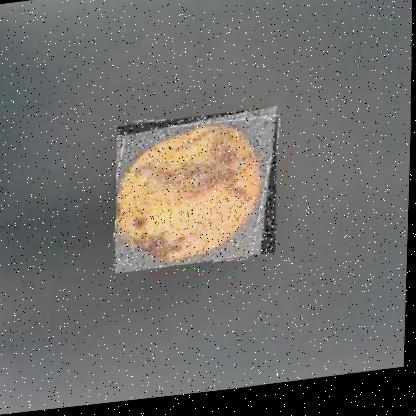mango_rotten: (112, 112, 279, 277)
